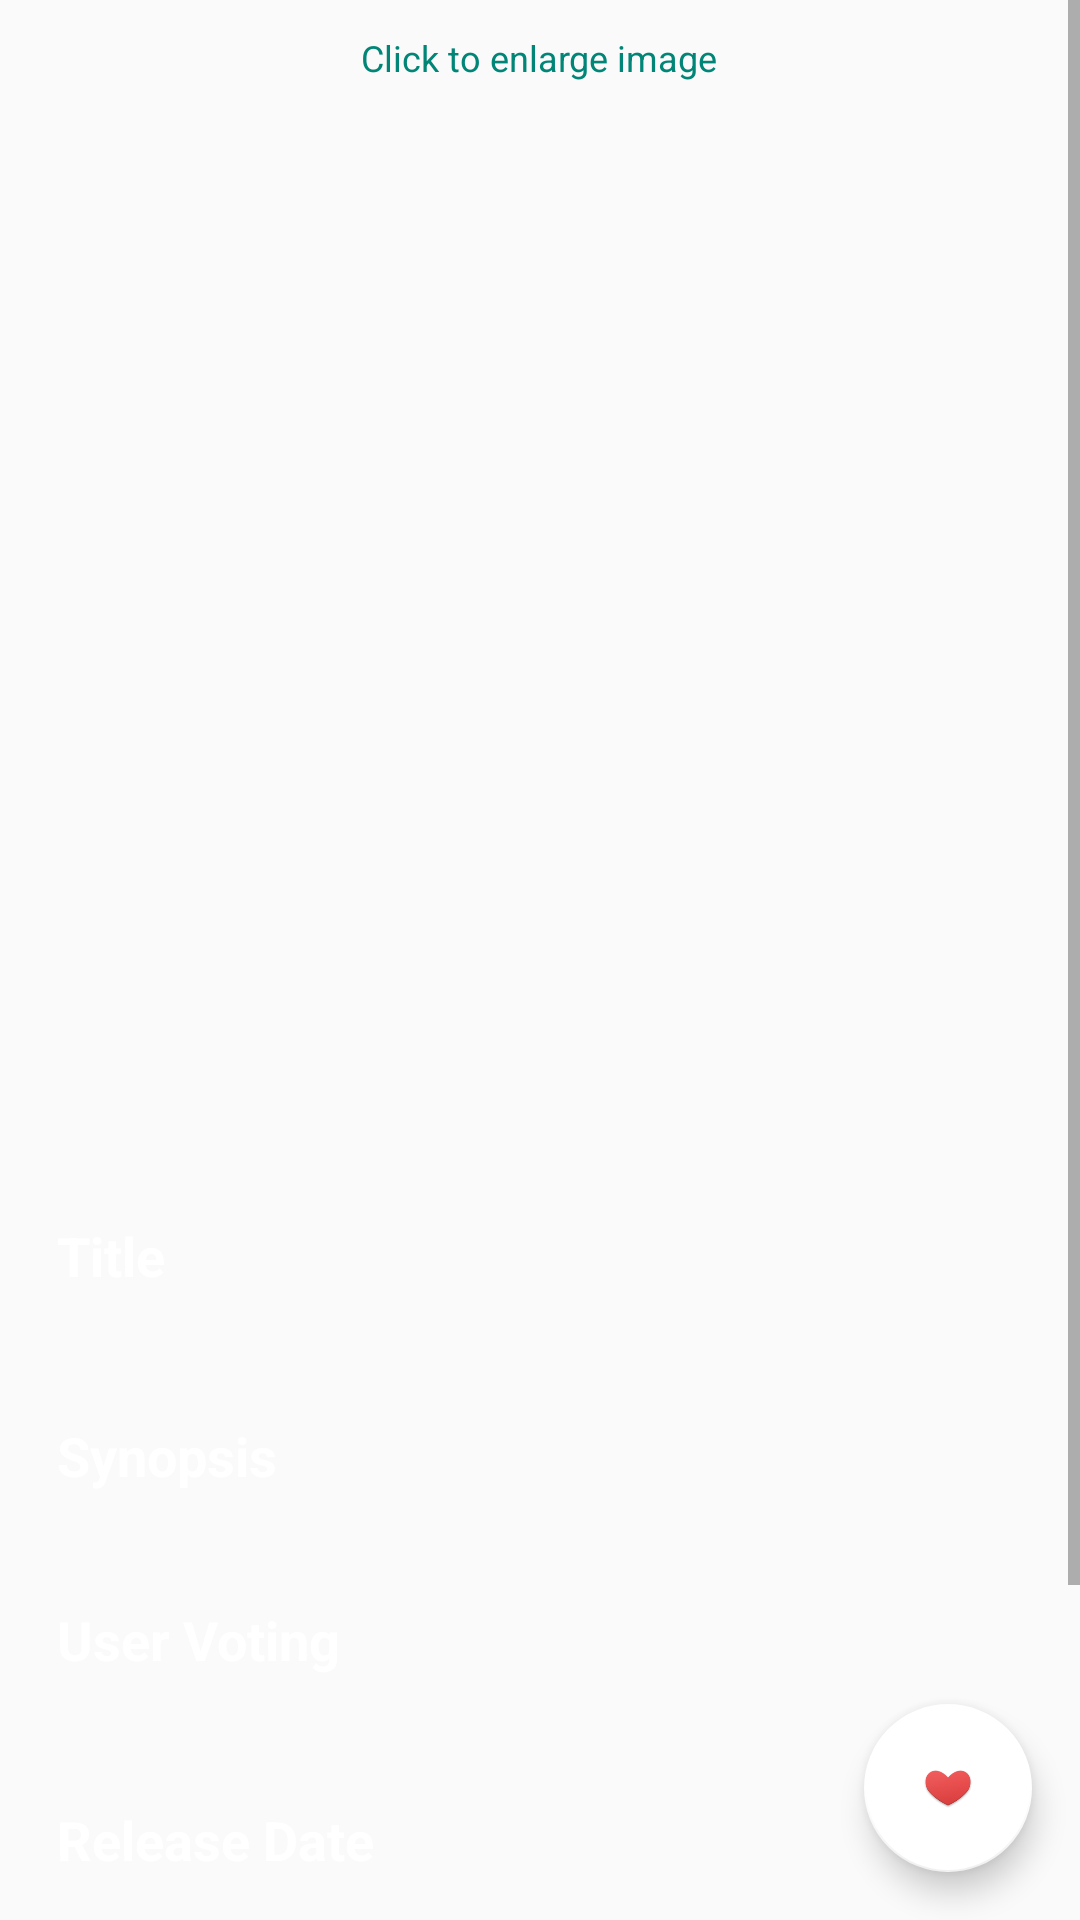

Icons on this 1080w x 1920h Android screen, each with the point to tap as (x=x, y=y):
favorite: (x=951, y=1821)
